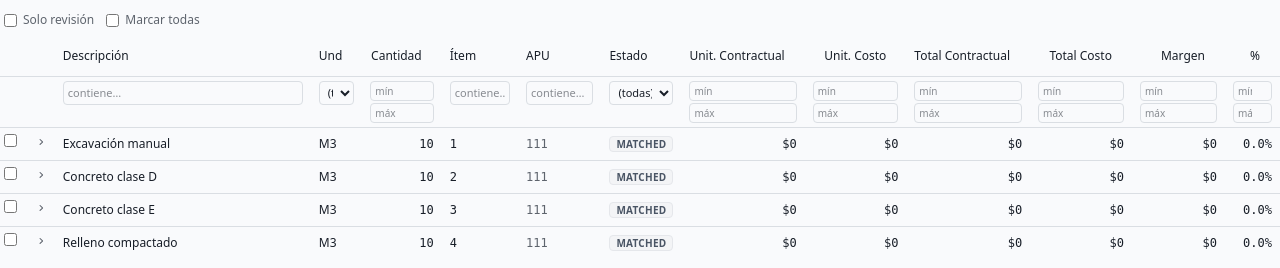
marcar todo usa solo lo que dejó pasar el filtro
The image size is (1280, 268).
"concreto" deja 2 de los 4 ítems visibles
Type "concreto" into the field named "Filtrar Descripción".
click(183, 92); type("concreto")  # box [63,80,303,104]
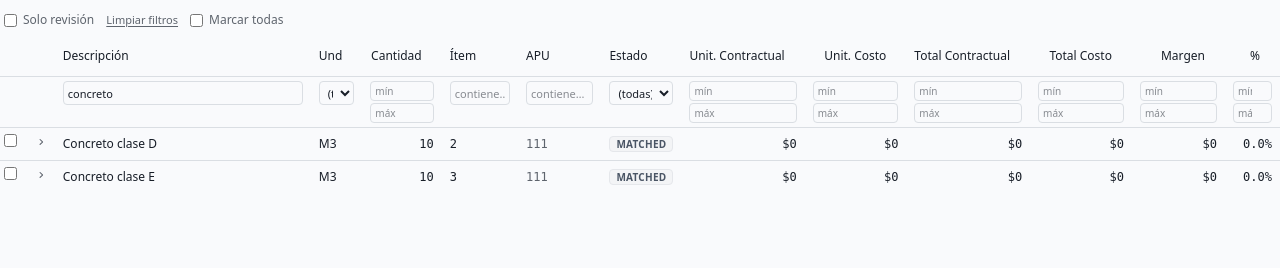
Click the checkbox named "Marcar todas las líneas".
click(196, 20)  # box [190,14,203,27]
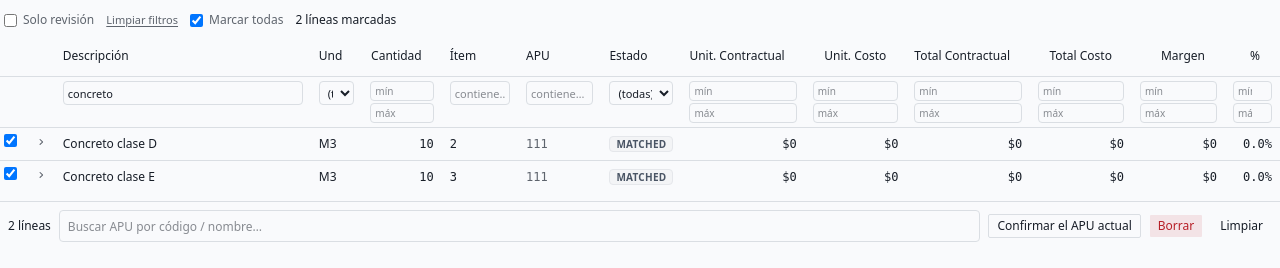
Expected: the text "2 líneas marcadas" is shown, [295,12,396,28]
